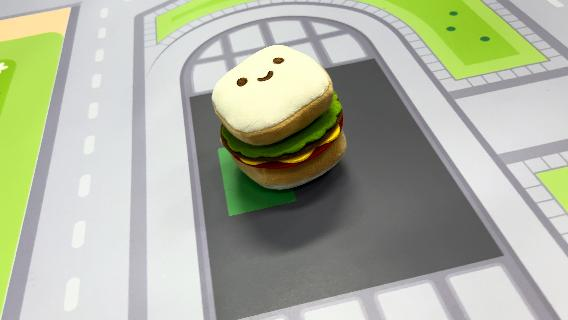sandwich: (210, 42, 350, 192)
